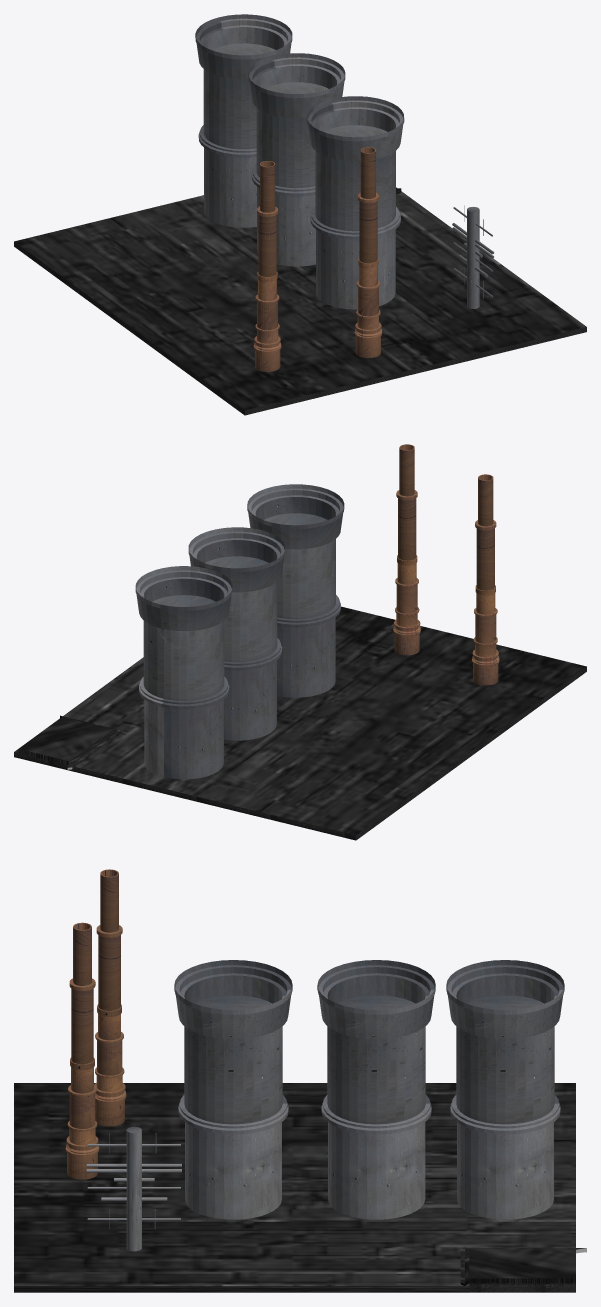
Rendered from ProcessingPlant_Roof.fbx.
The picture shows the model from 3 angles, top to bottom: view 1: azimuth 30°, elevation 25°; view 2: azimuth 150°, elevation 25°; view 3: azimuth 270°, elevation 25°; orthographic projection. The views are drawn at different scales.
Parts seen in each view (by area): view 1: Cube.008; view 2: Cube.008; view 3: Cube.008.
Boxes of the visible parts, x1,y1,x2,y2 form: Cube.008: [14, 14, 586, 415]; Cube.008: [14, 444, 586, 840]; Cube.008: [14, 869, 586, 1292].
Size of the model in its own units: 2517 by 1540 by 3000.
